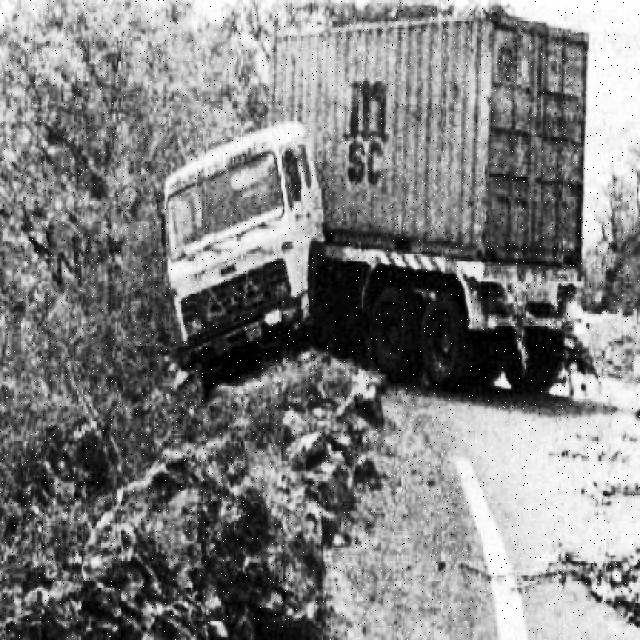HCV: (140, 42, 568, 356)
